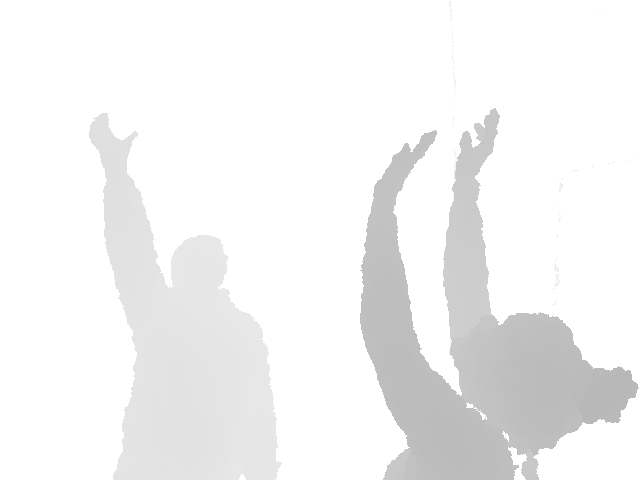hand: (373, 129, 437, 202), (453, 108, 500, 184), (87, 111, 138, 174)
head: (449, 310, 638, 456), (169, 234, 228, 299)
person: (359, 107, 640, 480), (87, 111, 282, 480)
